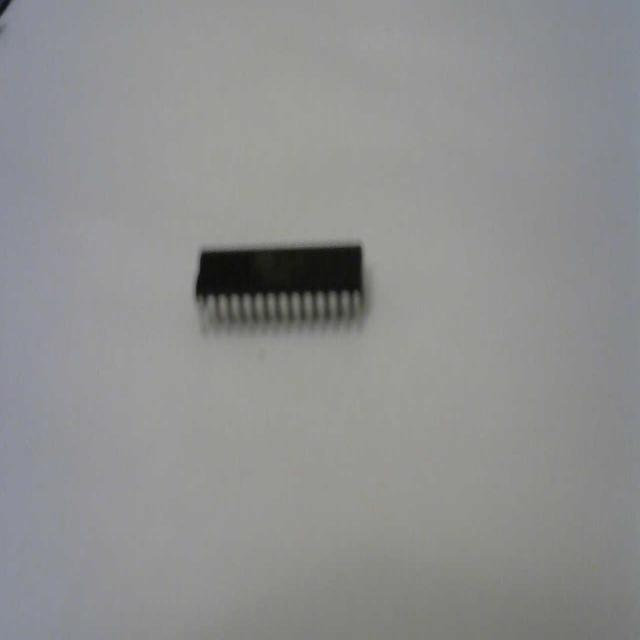atmega: (193, 237, 367, 337)
